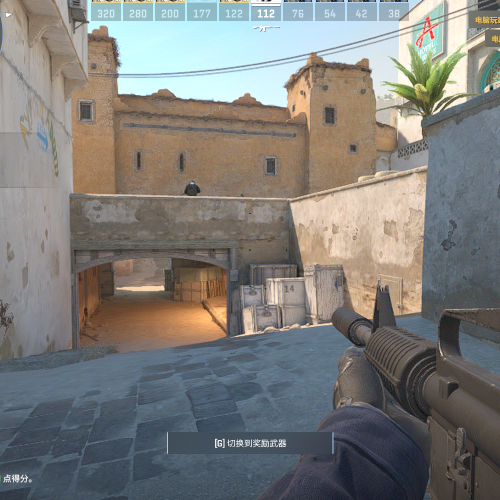ct_body: (184, 180, 201, 197)
ct_head: (189, 180, 195, 185)
